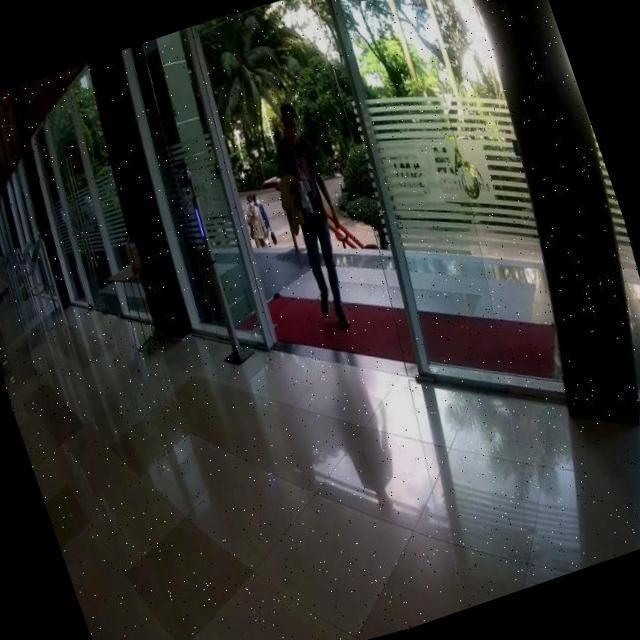person: (245, 93, 376, 337)
